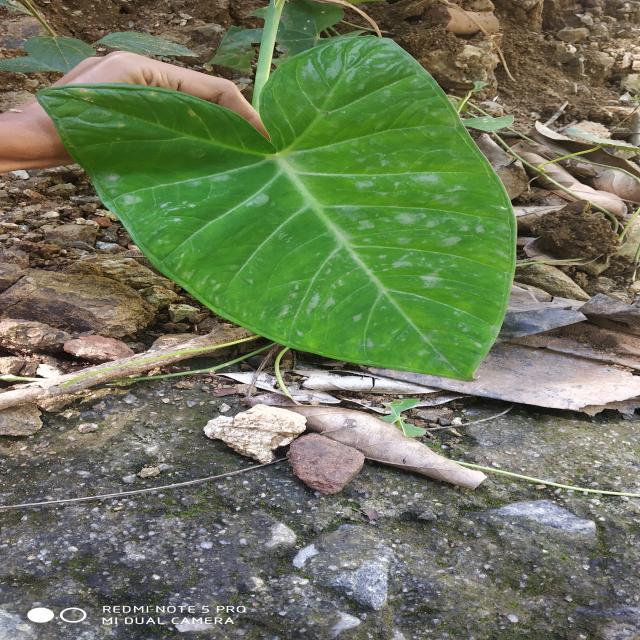defectedtaro: (333, 172, 516, 314)
taro: (38, 38, 516, 380)
